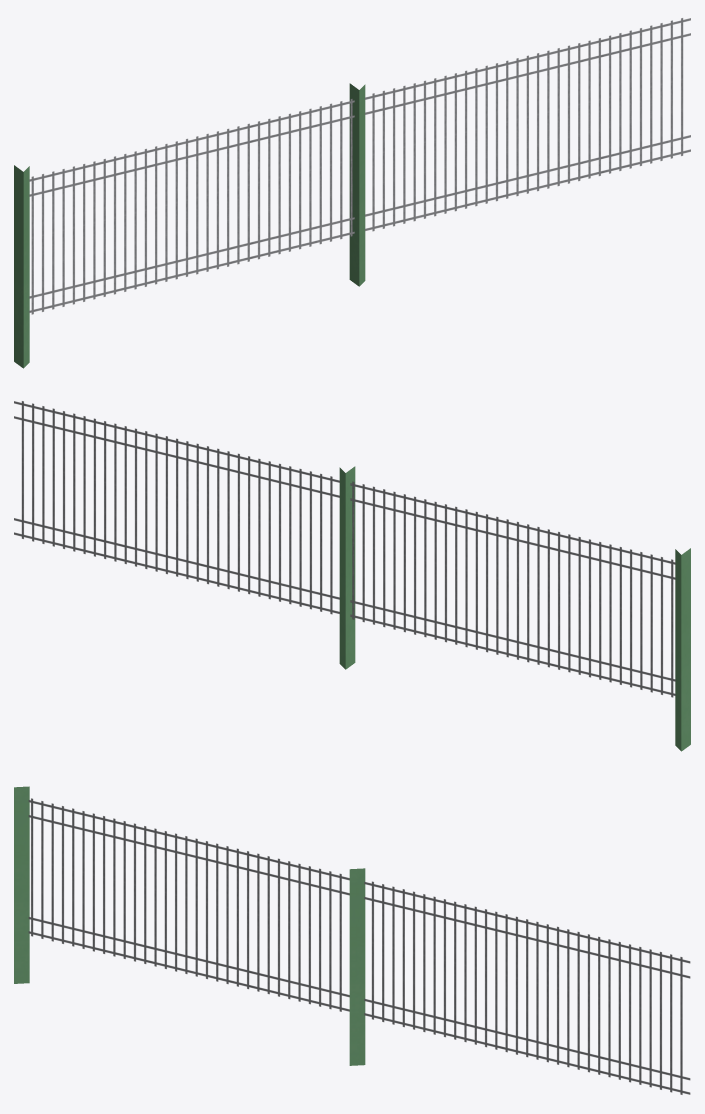
File: fence-mesh-2s-cbj_LOD01.gltf
3 renders of one model, top to bottom at view 1: azimuth 30°, elevation 25°; view 2: azimuth 150°, elevation 25°; view 3: azimuth 330°, elevation 25°, orthographic.
Visible parts, largest first — view 1: post01; view 2: post01; view 3: post01.
Part boxes in pixels (bbox=[...]): post01: bbox=[14, 18, 690, 368]; post01: bbox=[14, 401, 690, 751]; post01: bbox=[14, 786, 690, 1094].
Size of what is drawn, in the model's own units: 5 by 1.4 by 0.1238.
